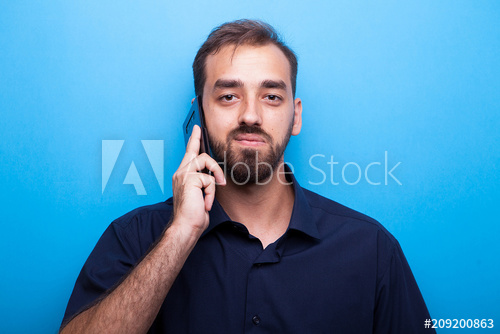phone: (170, 101, 220, 179)
talk: (169, 69, 296, 235)
